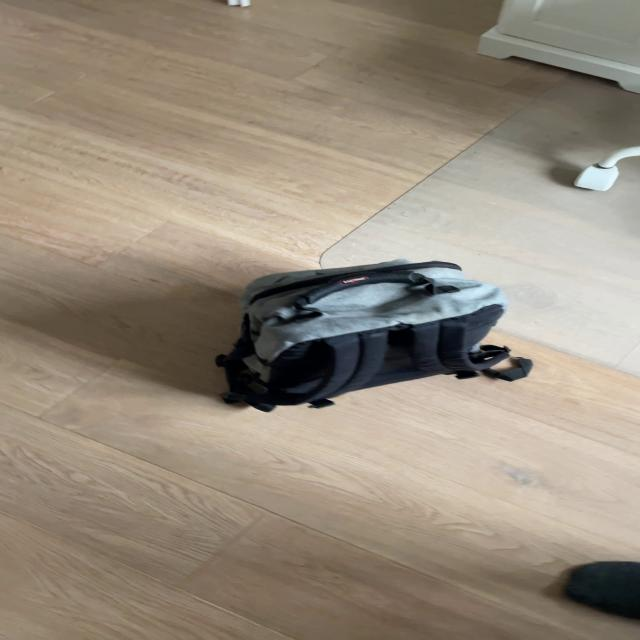backpack: (215, 254, 528, 413)
